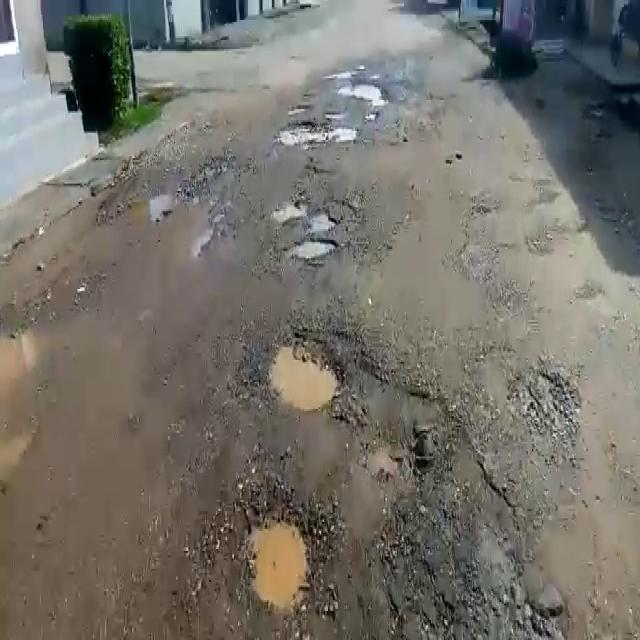Pothole: (243, 516, 310, 614), (265, 334, 340, 408), (281, 232, 337, 264), (272, 120, 330, 149), (278, 200, 335, 228), (339, 75, 394, 104)
